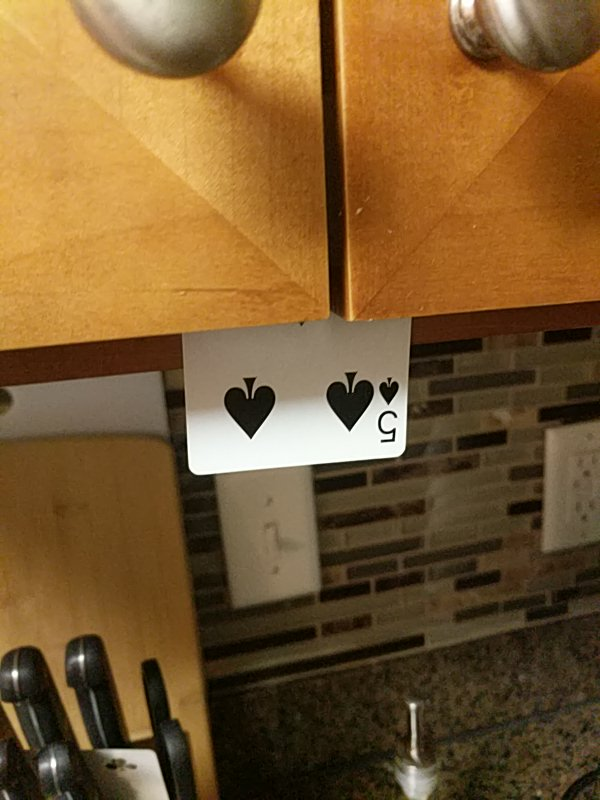Spades: (182, 315, 410, 471)
